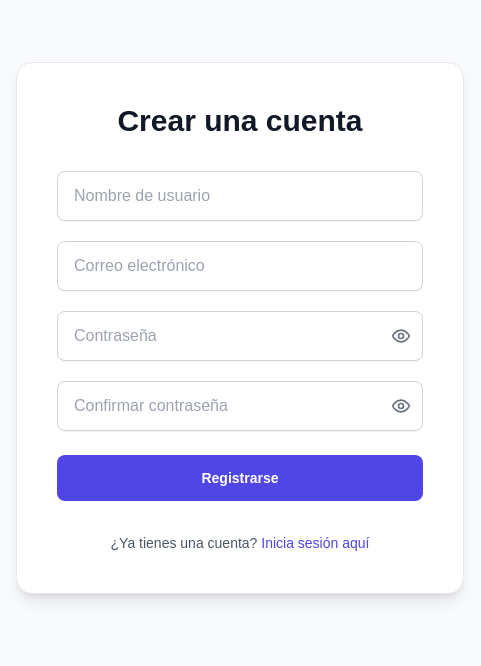
Test: RegisterPage › validates password policy
Type "Misty" into the field with placeholder "Nombre de usuario" at [240, 196], box [57, 171, 423, 221]
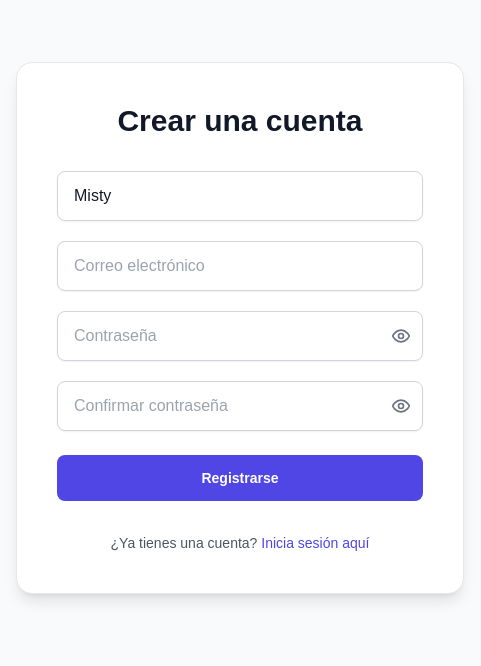
Type "misty@example.com" into the field with placeholder "Correo electrónico" at [240, 266], box [57, 241, 423, 291]
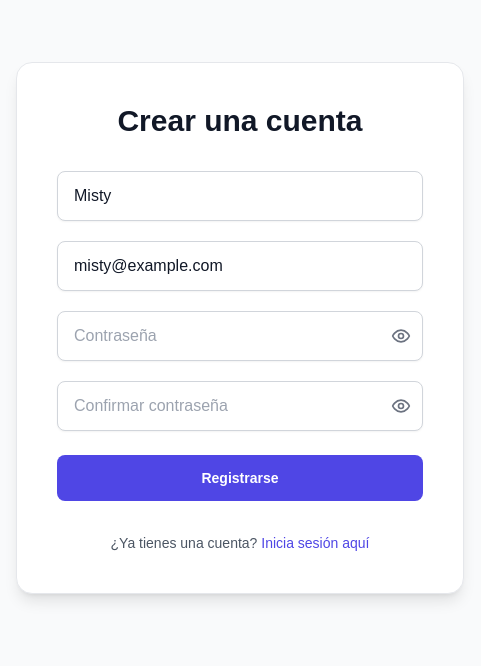
Type "short" into the password field with placeholder "Contraseña" at [240, 336], box [57, 311, 423, 361]
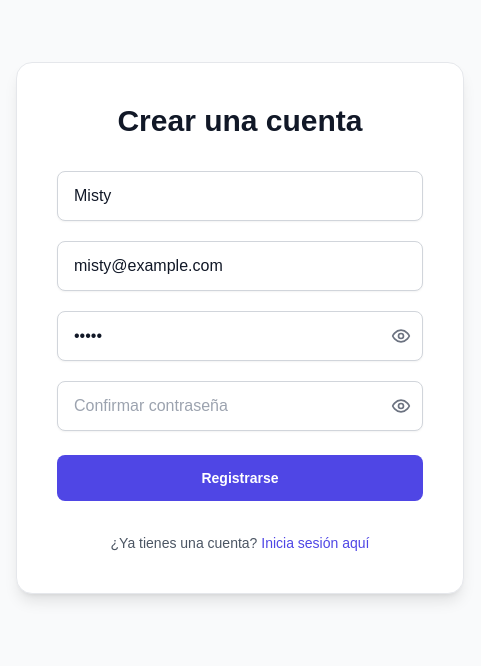
Type "short" into the password field with placeholder "Confirmar contraseña" at [240, 406], box [57, 381, 423, 431]
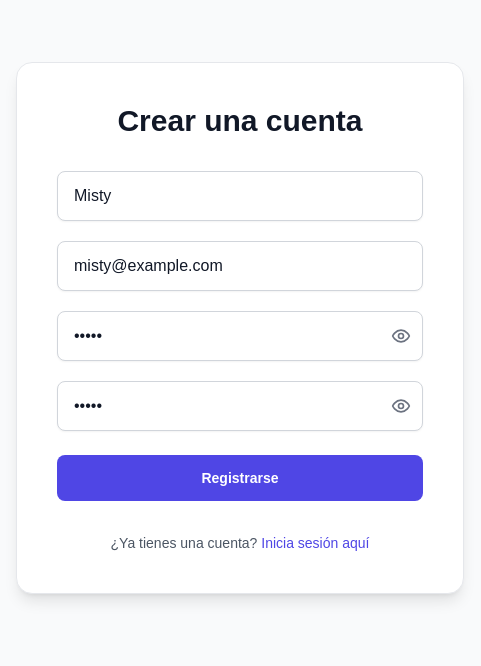
Click the button "Registrarse" at [240, 478], box [57, 455, 423, 501]
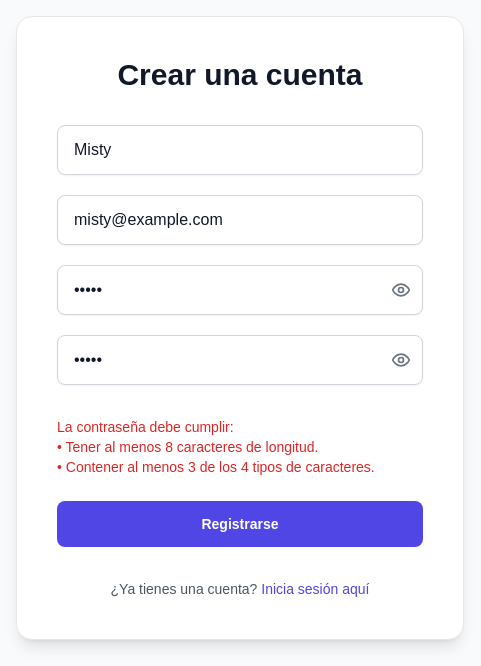
Now the text "La contraseña debe cumplir" is shown, box [57, 419, 375, 475]
